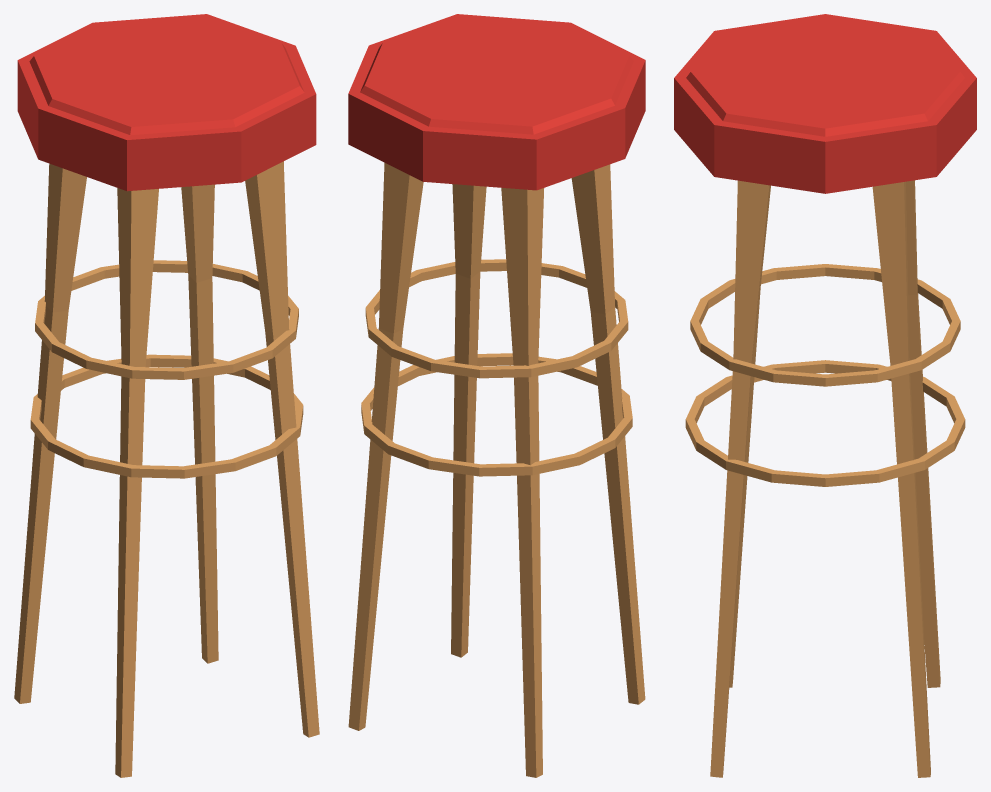
File: C_Chaise_003.fbx
3 views of the same model, side by side, from view 1: azimuth 30°, elevation 25°; view 2: azimuth 150°, elevation 25°; view 3: azimuth 270°, elevation 25° (orthographic). The views are drawn at different scales.
Visible parts, largest first — view 1: C_Chaise_002.001; view 2: C_Chaise_002.001; view 3: C_Chaise_002.001.
Part boxes in pixels (x1,y1,x2,y2): C_Chaise_002.001: (14, 14, 319, 777); C_Chaise_002.001: (348, 14, 645, 777); C_Chaise_002.001: (674, 14, 976, 777).
Bounding box in the file's own units: 36.99 × 88.87 × 36.99.
